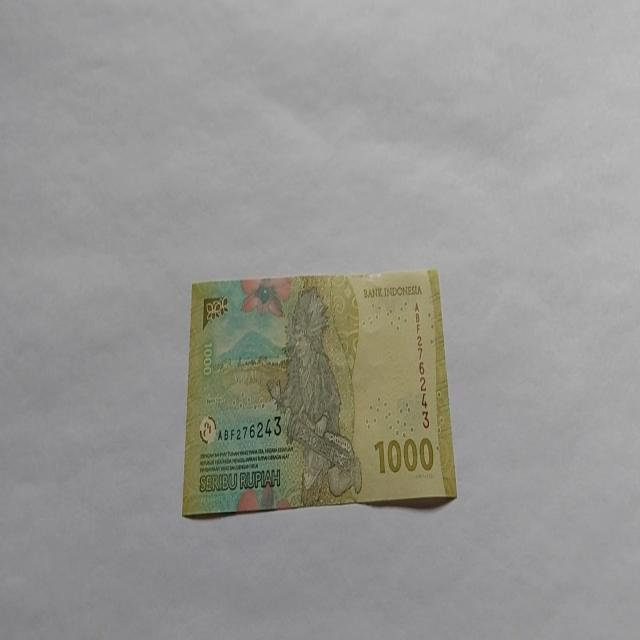seribu rupiah kertas: (181, 266, 457, 518)
